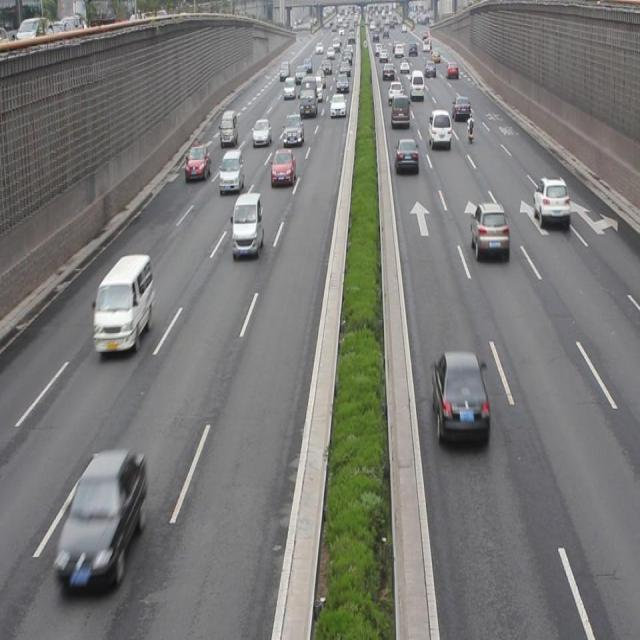car: (54, 444, 146, 592), (432, 349, 488, 443), (470, 202, 508, 260), (534, 177, 570, 230), (271, 148, 296, 189), (186, 142, 211, 182), (394, 137, 418, 172), (282, 115, 304, 146), (251, 117, 271, 148), (451, 94, 471, 120)
truck: (92, 253, 152, 351), (232, 192, 263, 260), (218, 147, 244, 193), (428, 108, 451, 148), (219, 108, 239, 146), (389, 96, 409, 129)
